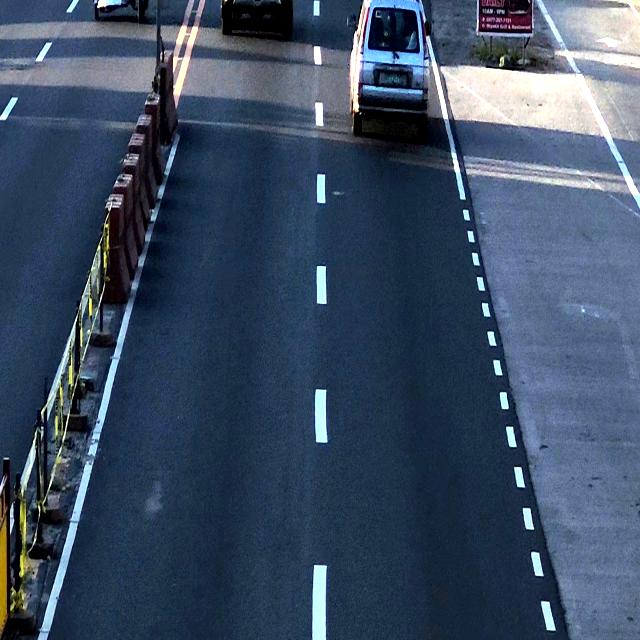Car: (347, 0, 436, 141)
License-Plate: (380, 68, 408, 86)
